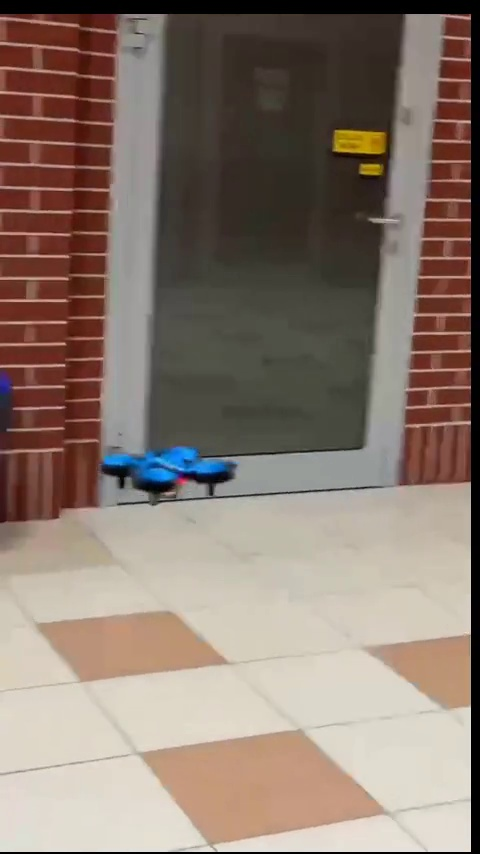drone: (96, 446, 242, 506)
